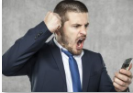person: (45, 1, 103, 56)
